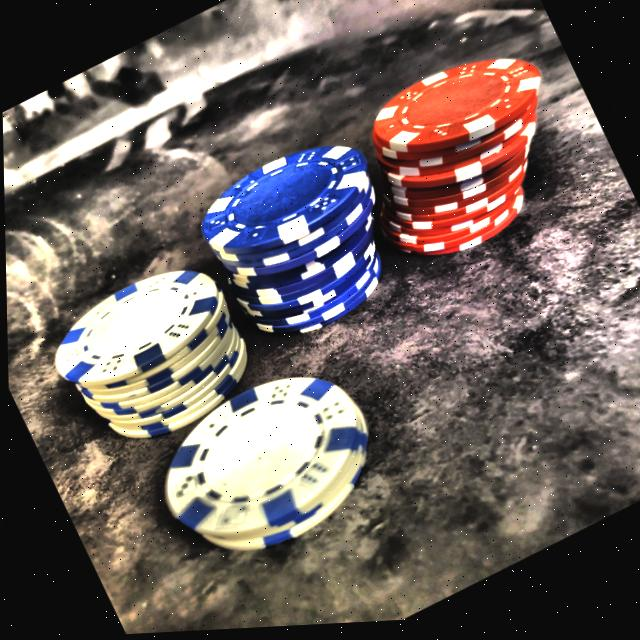Chip: (313, 5, 606, 304), (119, 323, 422, 612), (169, 100, 435, 382), (23, 215, 283, 488)
